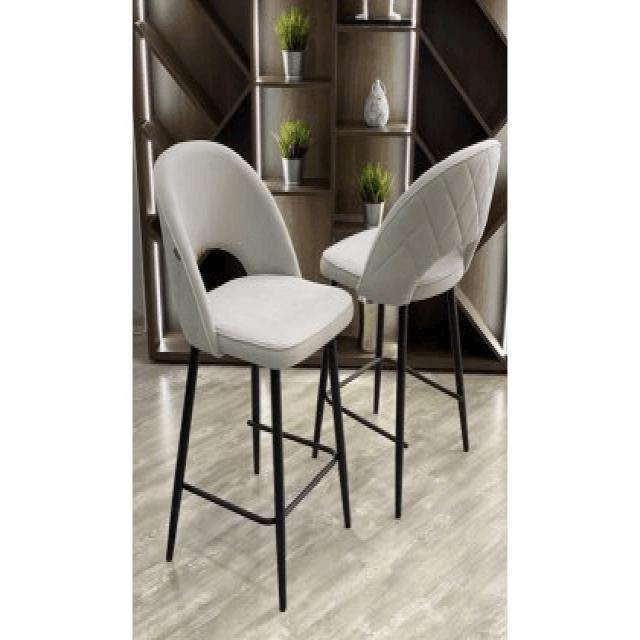chair: (151, 132, 354, 614), (308, 135, 504, 527), (155, 130, 349, 362), (322, 133, 501, 302)
